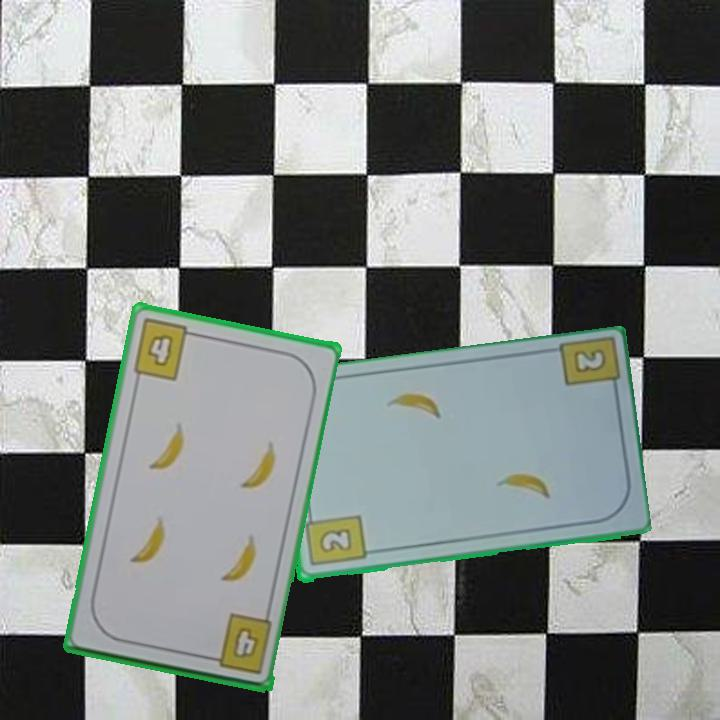2b: (301, 508, 368, 570), (569, 347, 606, 377)
4b: (129, 315, 201, 384), (203, 610, 275, 677)
